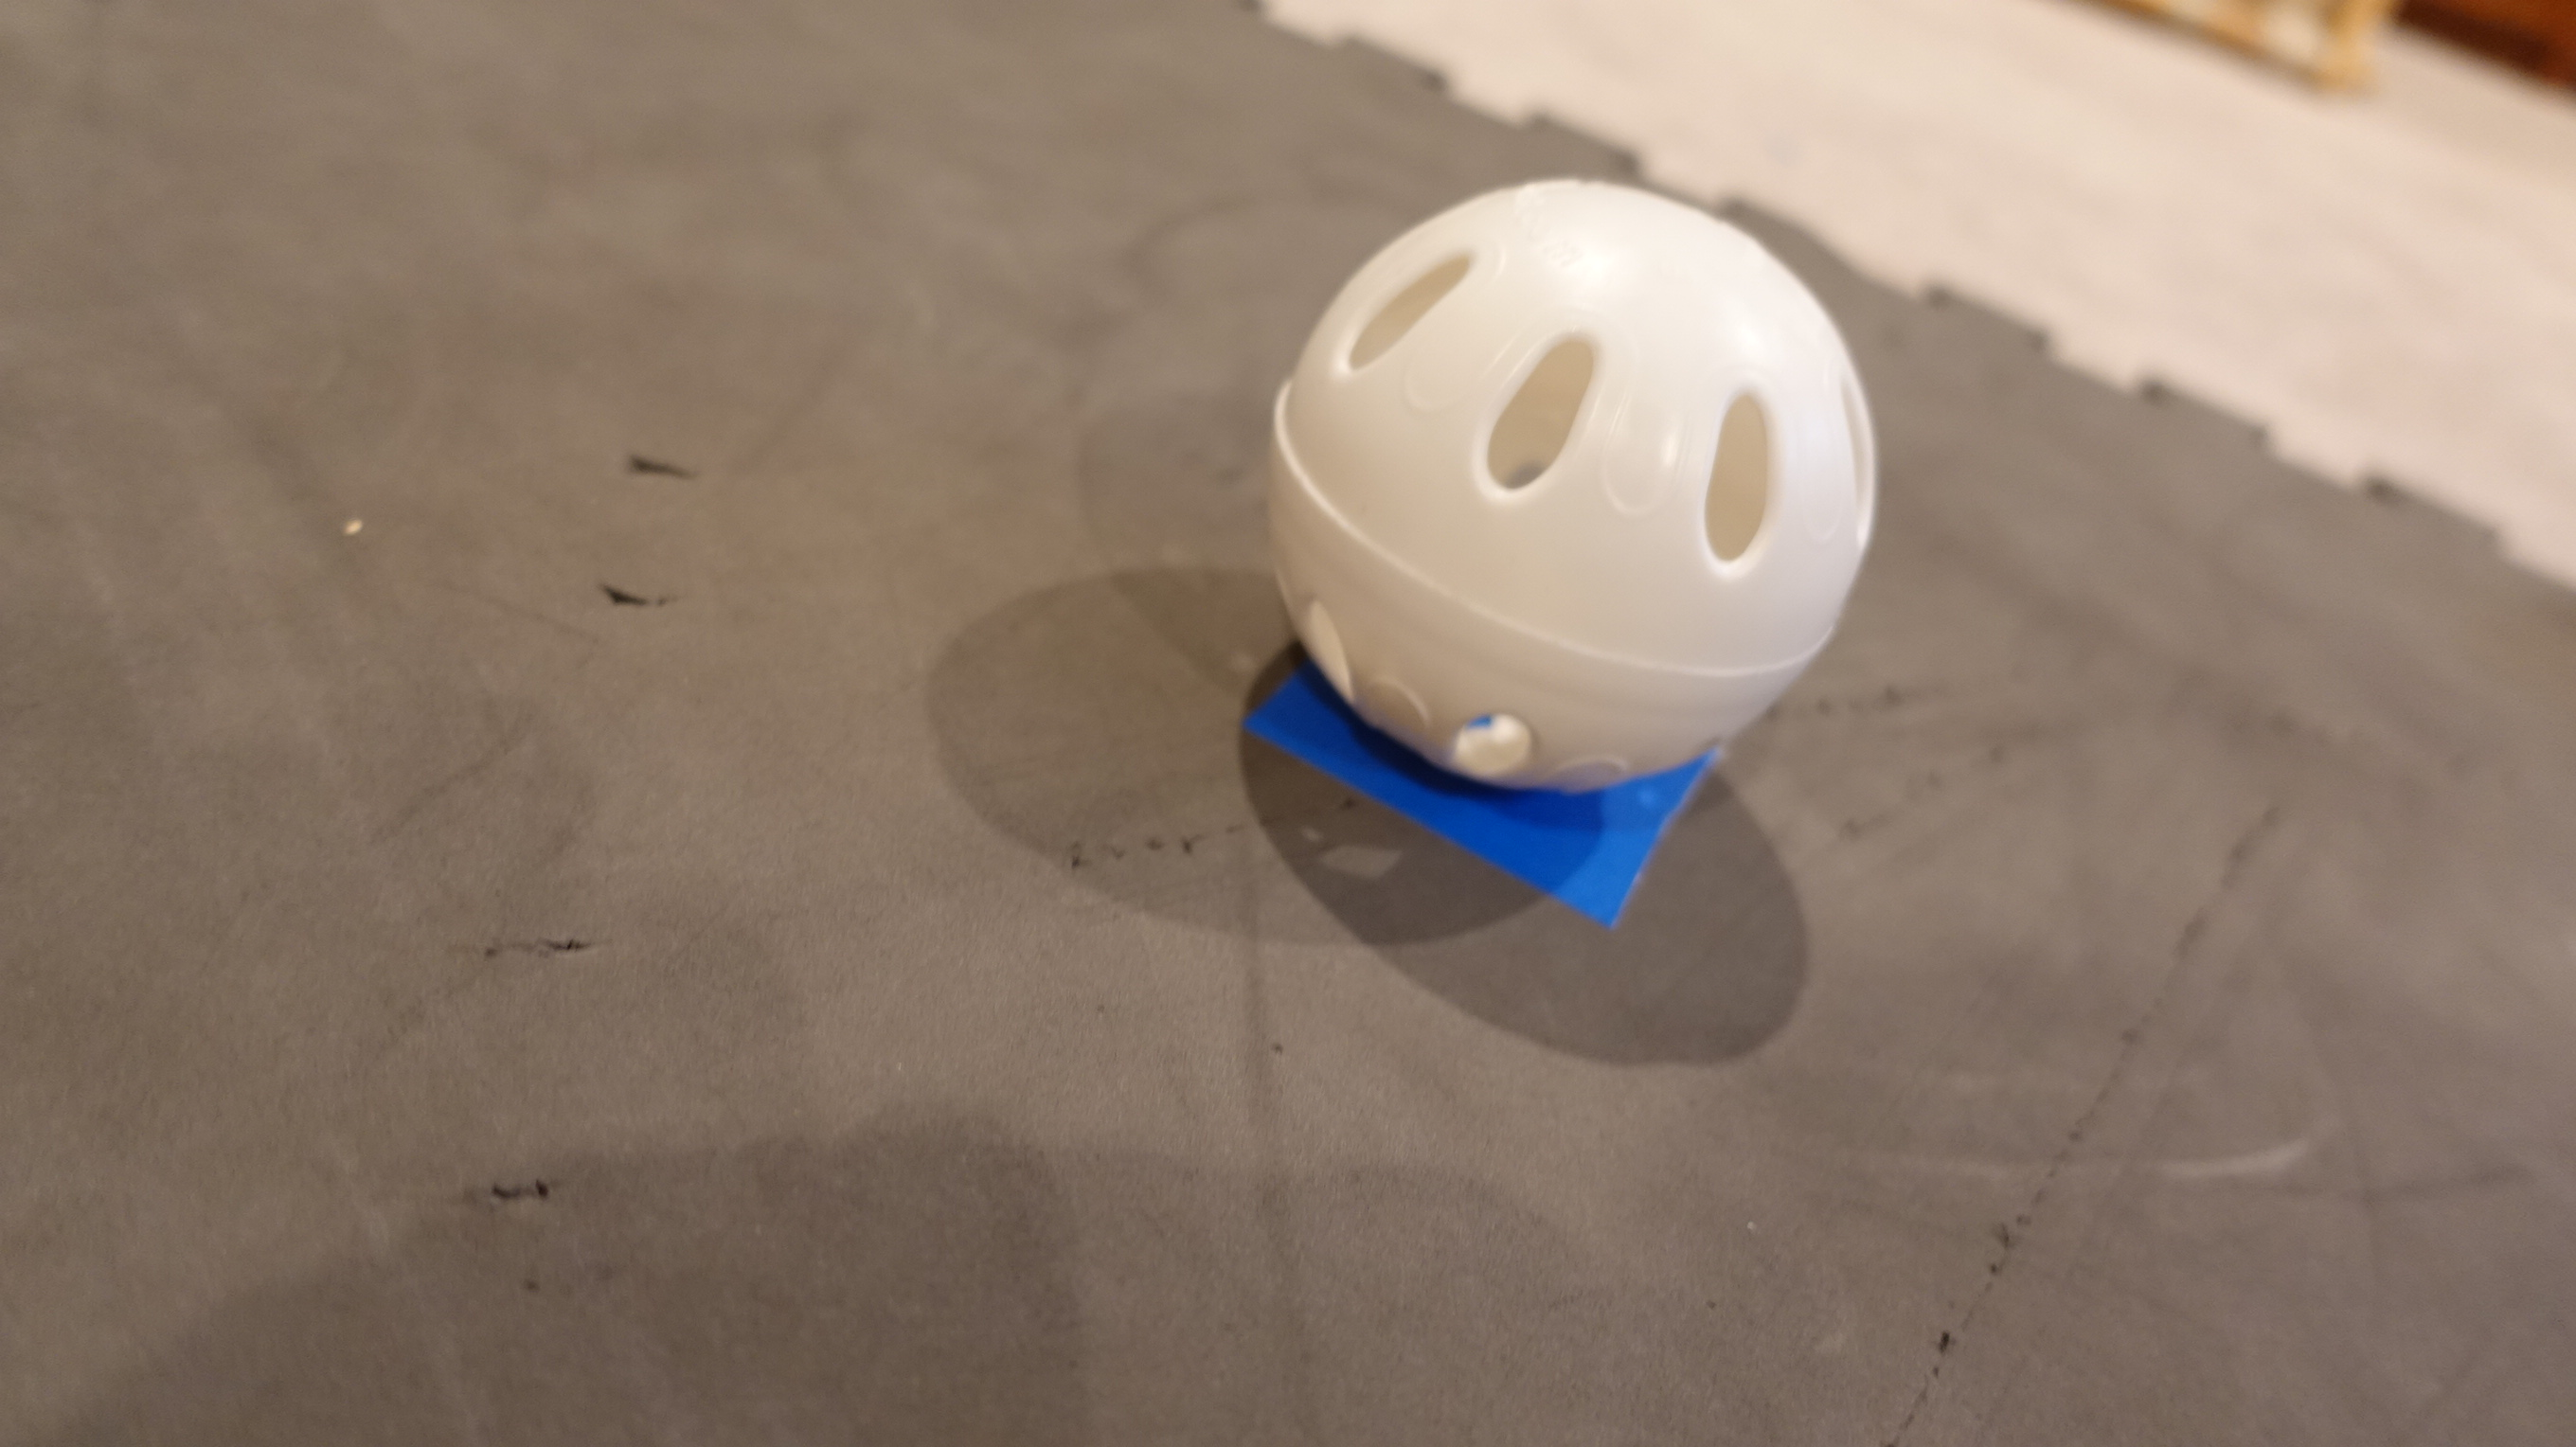silver: (1265, 172, 1882, 785)
